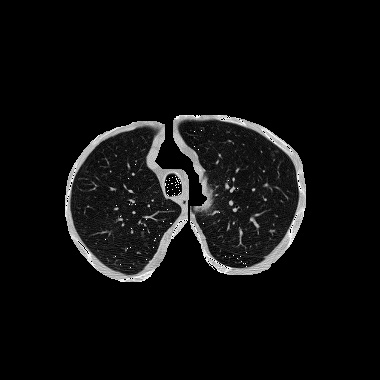PN: (140, 232, 144, 236)
